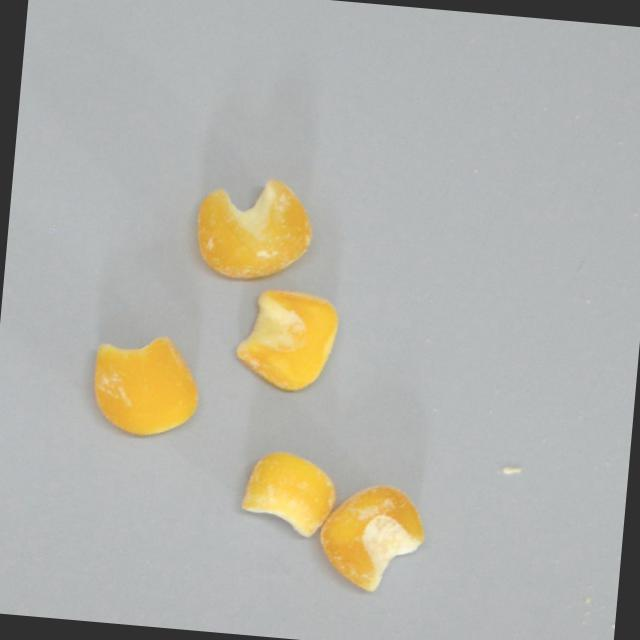pelicula: (187, 169, 321, 288), (311, 476, 432, 598), (83, 325, 207, 442), (227, 283, 341, 397), (235, 445, 339, 540)
